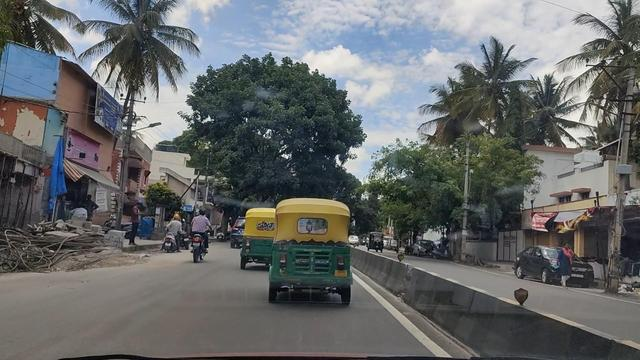LMV: (279, 195, 357, 307), (245, 212, 280, 267), (186, 212, 211, 258)
